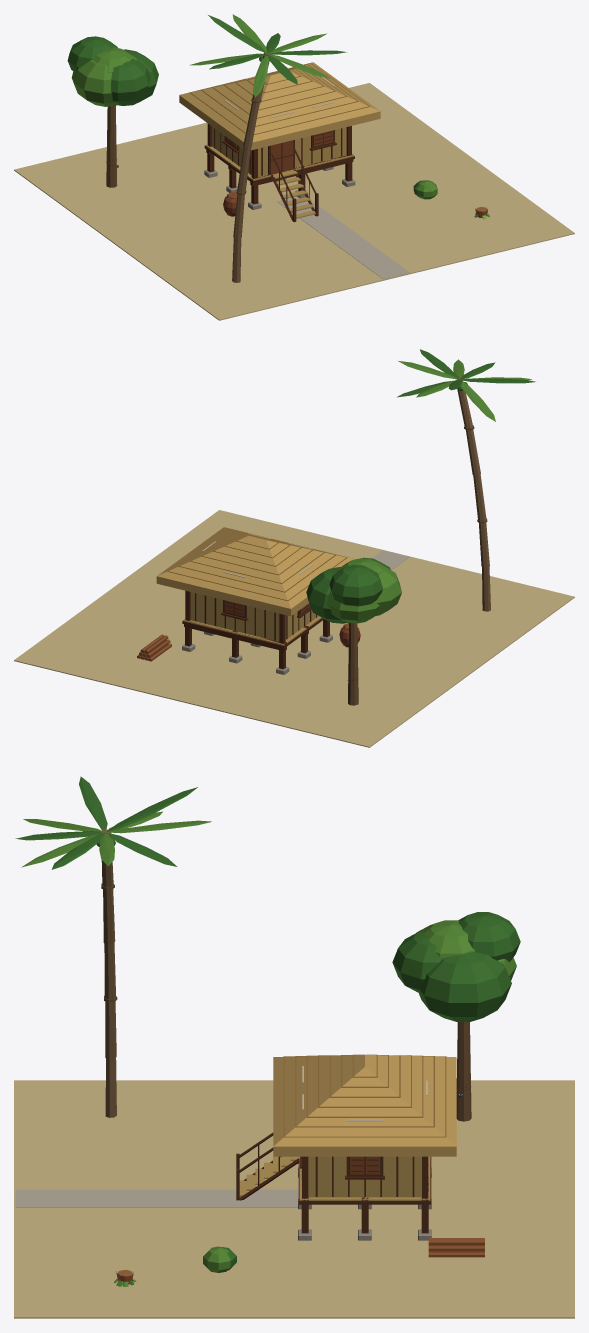
Rendered from home_1.glb.
The picture shows the model from 3 angles, top to bottom: view 1: azimuth 30°, elevation 25°; view 2: azimuth 150°, elevation 25°; view 3: azimuth 270°, elevation 25°; orthographic projection. The views are drawn at different scales.
Parts seen in each view (by area): view 1: body; view 2: body; view 3: body.
Part boxes in pixels (box(x1,y1,x2,y2)): body: box(14, 14, 574, 320); body: box(14, 349, 574, 747); body: box(14, 776, 574, 1318).
Size of the model in its own units: 15.9 by 10.69 by 15.9.
